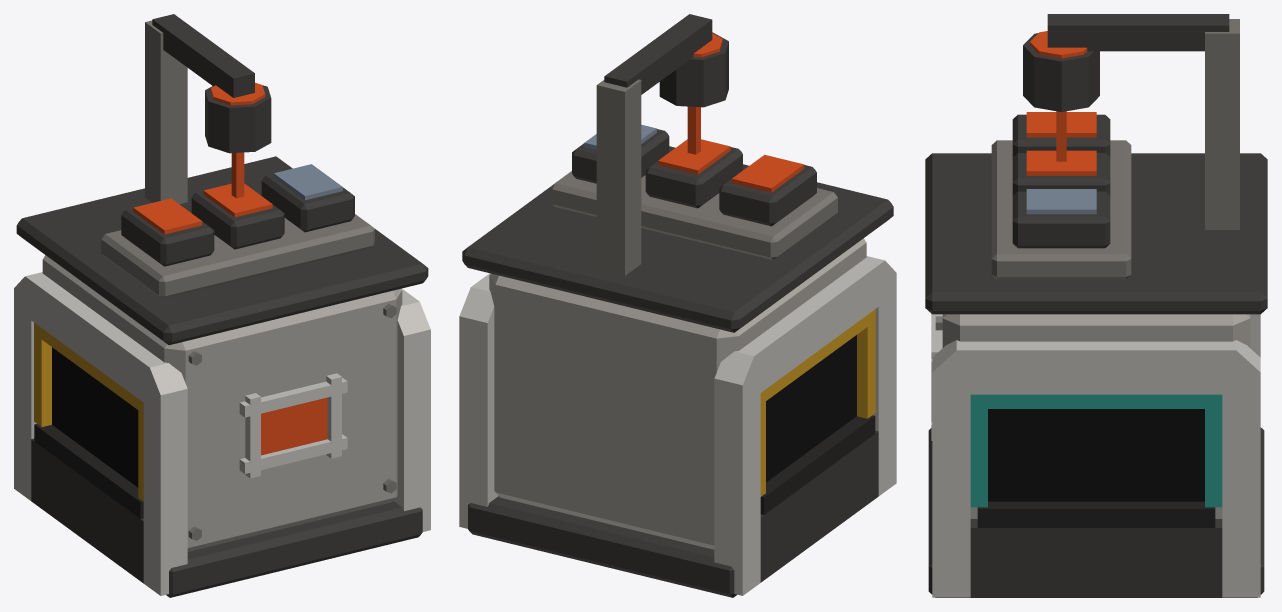
The model's file is caster.fbx.
The picture shows the model from 3 angles, left to right: view 1: azimuth 30°, elevation 25°; view 2: azimuth 150°, elevation 25°; view 3: azimuth 270°, elevation 25°; orthographic projection. The views are drawn at different scales.
Visible parts, largest first — view 1: caster; view 2: caster; view 3: caster.
Part boxes in pixels (bbox=[...]): caster: bbox=[14, 14, 430, 597]; caster: bbox=[459, 14, 896, 597]; caster: bbox=[925, 14, 1267, 597].
Size of the model in its own units: 3 by 4.83 by 2.94.
